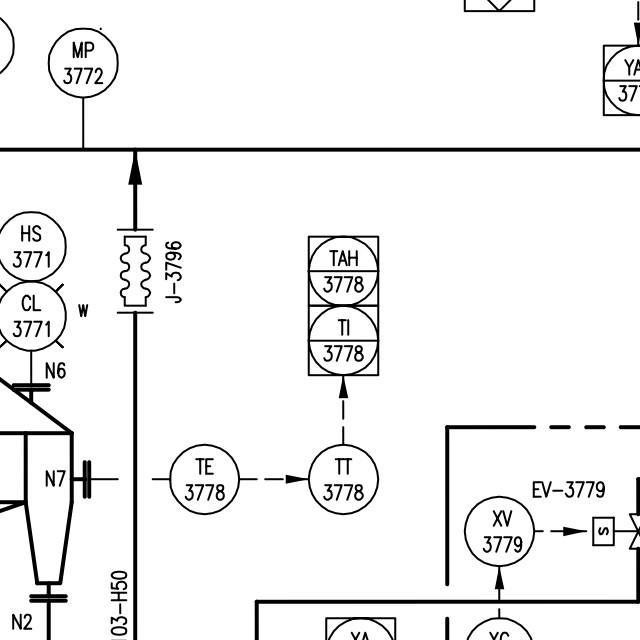EJ: (113, 222, 159, 320)
SV: (584, 507, 640, 549)
